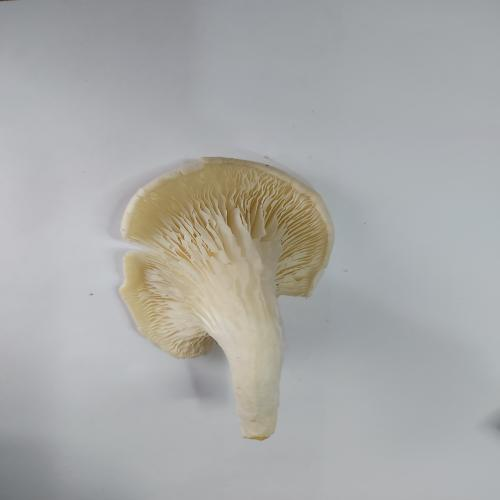Oyster Mushroom: (117, 155, 336, 441)
